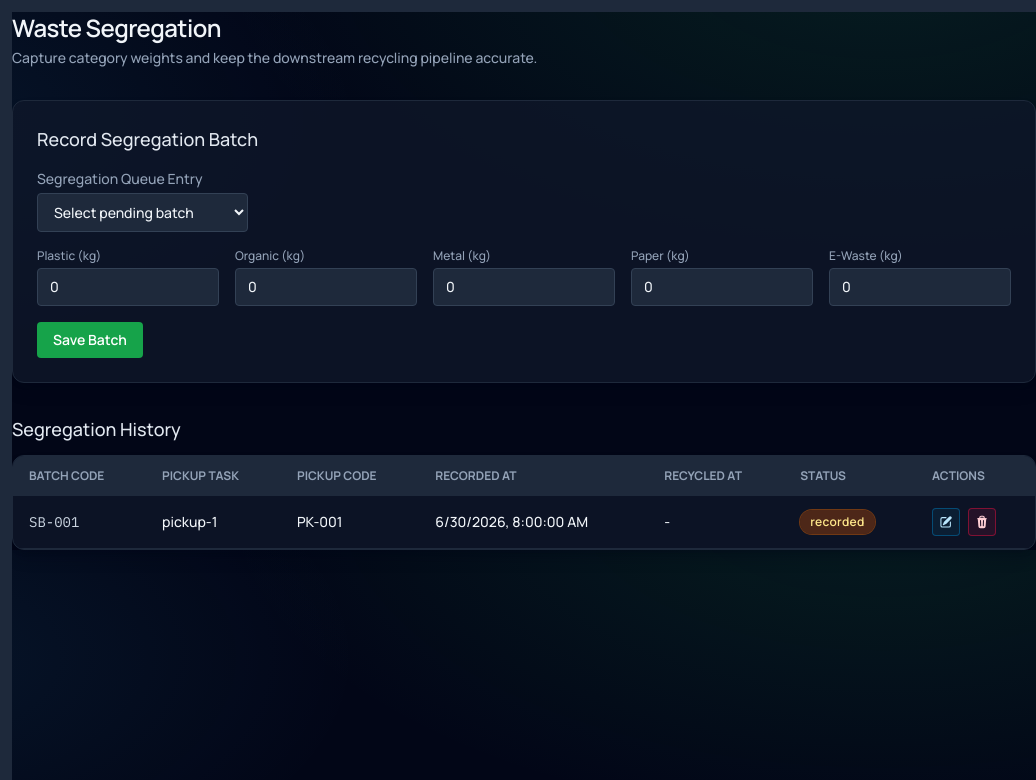
Test case: SegregationPage integration › clears stale success text when a later submit fails
Select "SB-001 | PK-001 | pending" in the dropdown labelled "Segregation Queue Entry" at (142, 212), box [37,193,248,232]
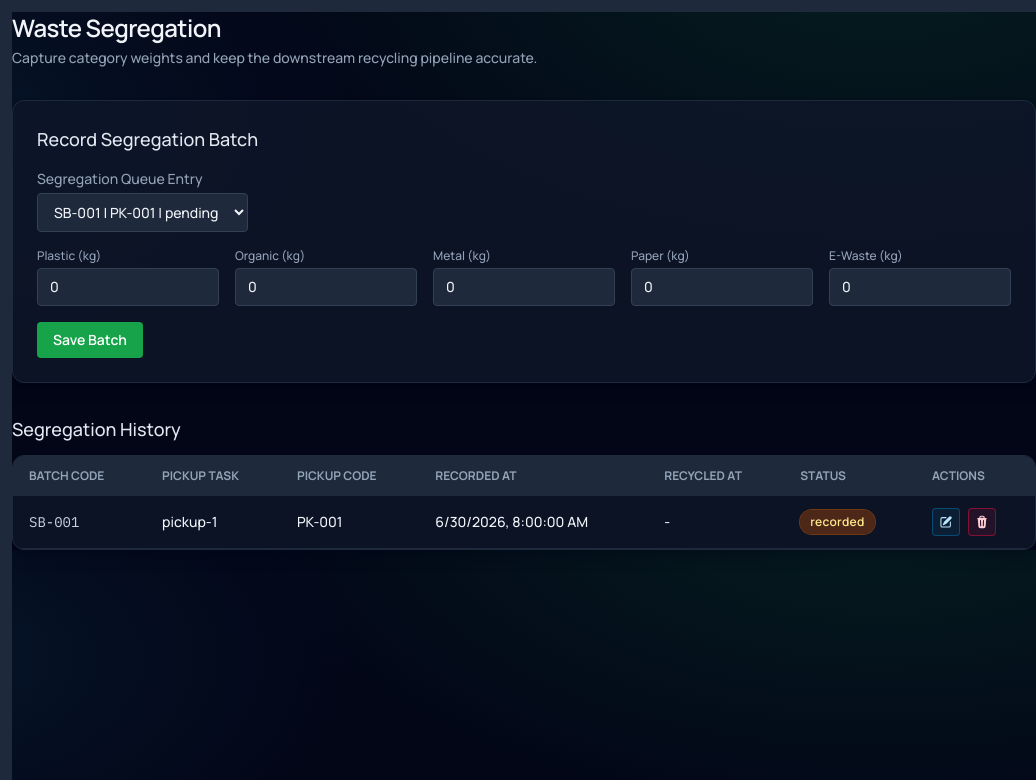
Replace the text in the number field labelled "Plastic (kg)" with "10" at (128, 287), box [37,268,219,306]
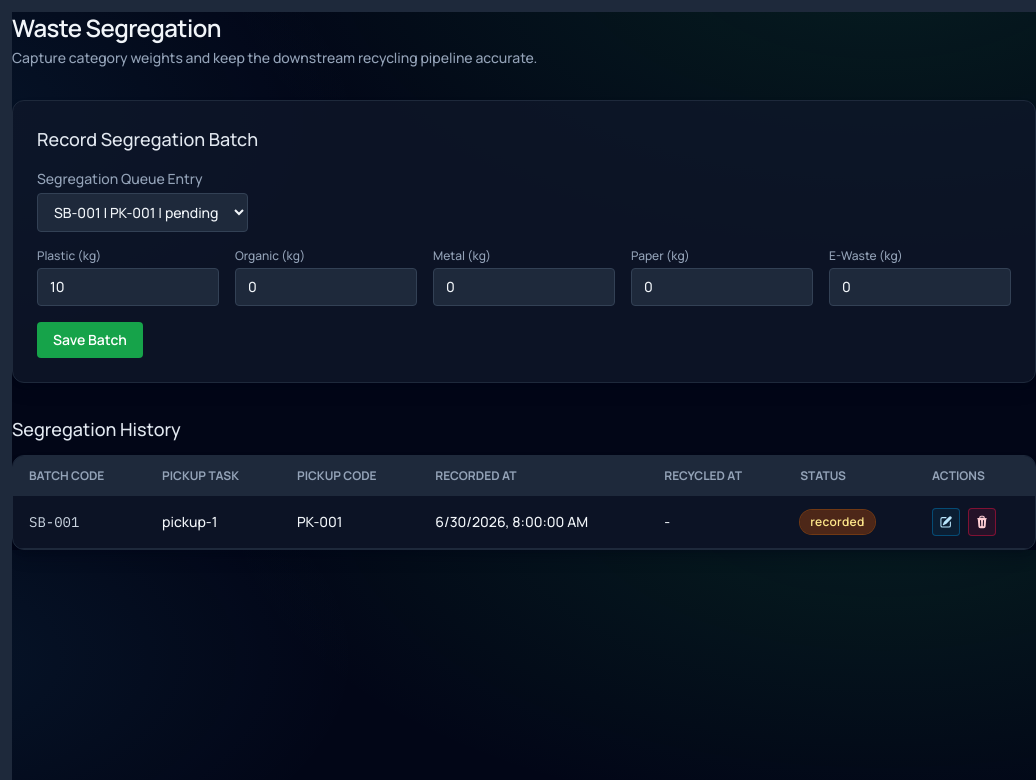
Click the button "Save Batch".
click(90, 340)  # box [37,322,143,358]
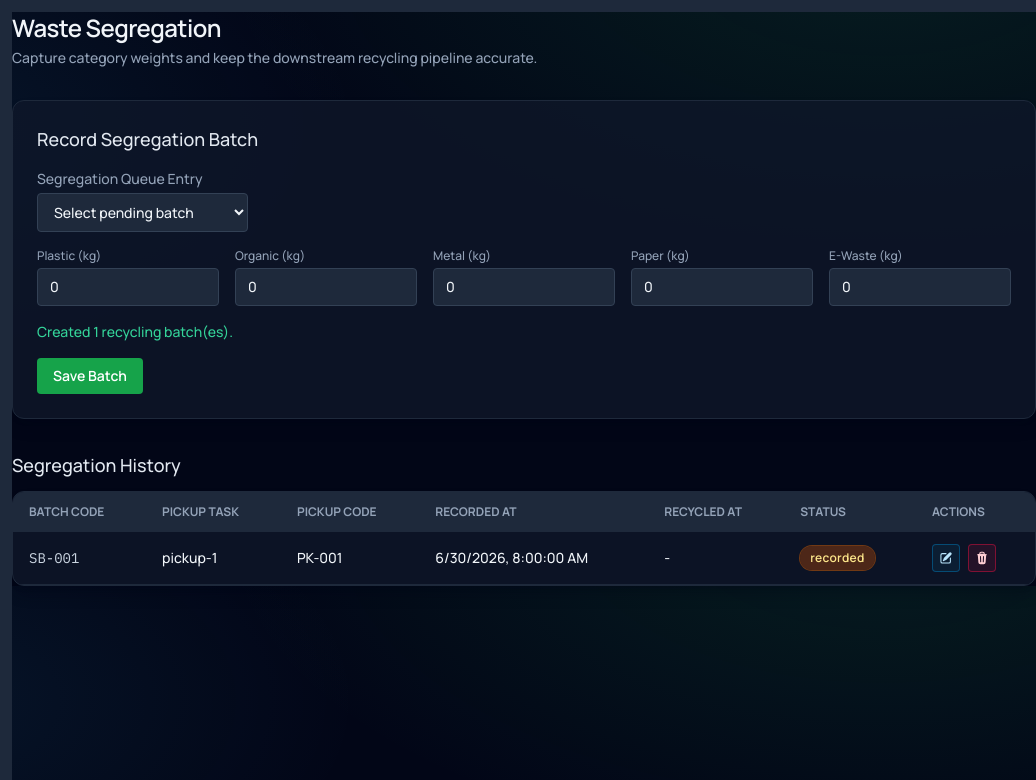
expect the message reads "Created 1 recycling batch(es).": met, box [37,322,233,341]
Select "SB-001 | PK-001 | pending" in the dropdown labelled "Segregation Queue Entry" at (142, 212), box [37,193,248,232]
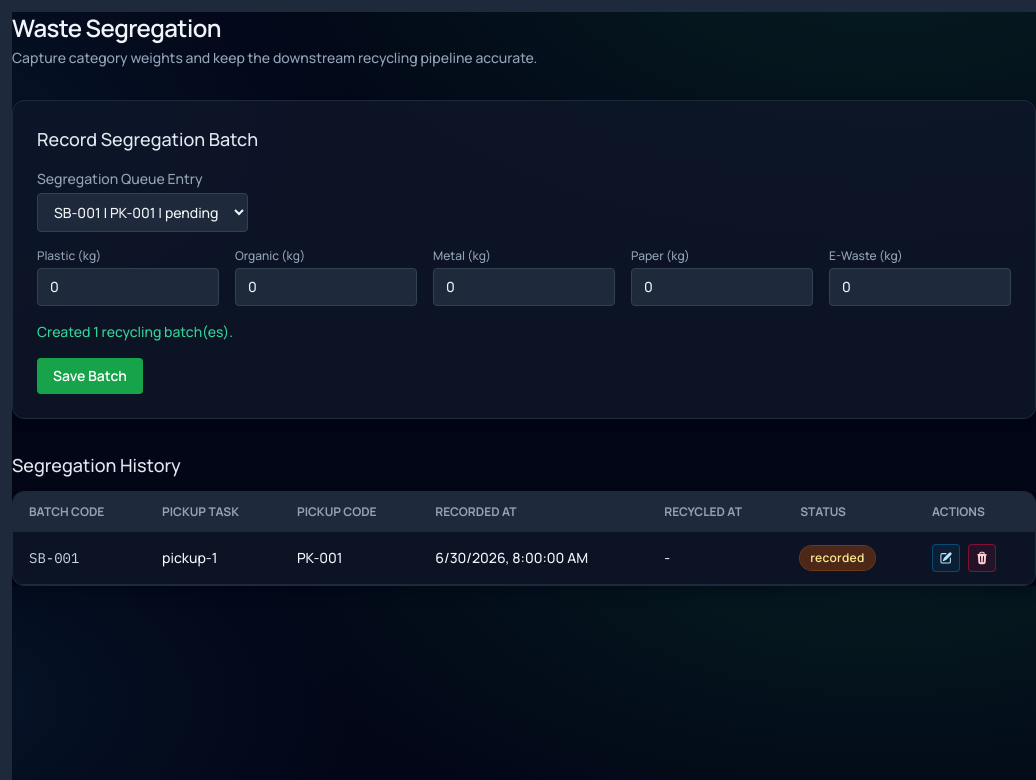
Replace the text in the number field labelled "Plastic (kg)" with "12" at (128, 287), box [37,268,219,306]
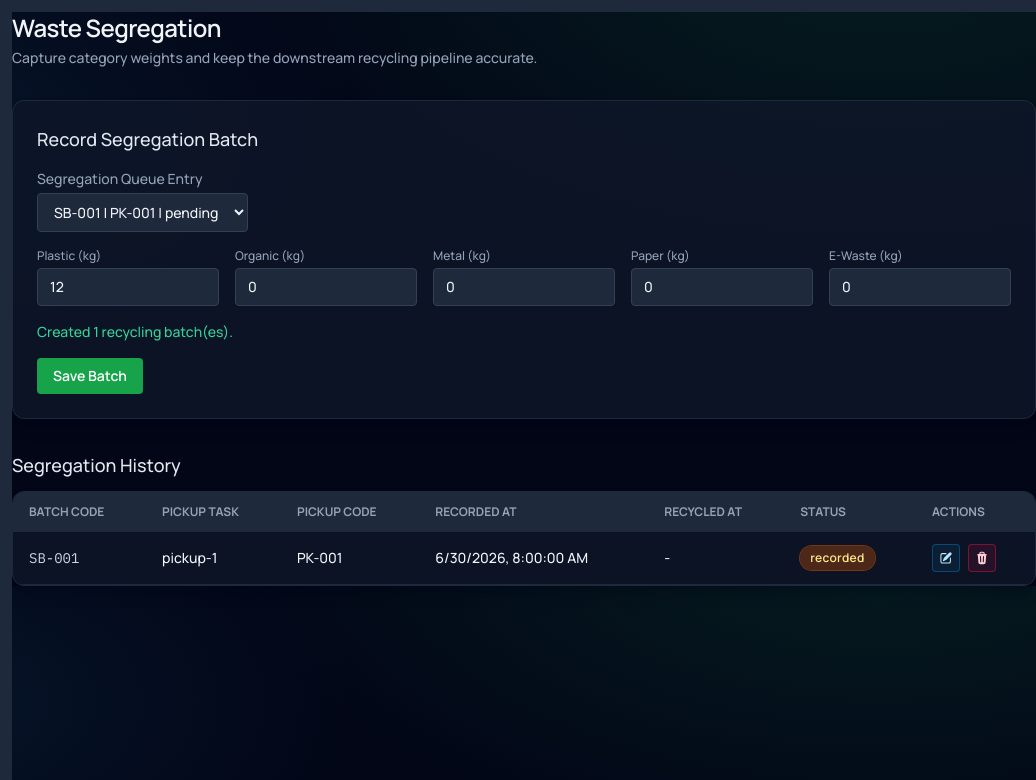
Click the button "Save Batch".
click(90, 376)  # box [37,358,143,394]
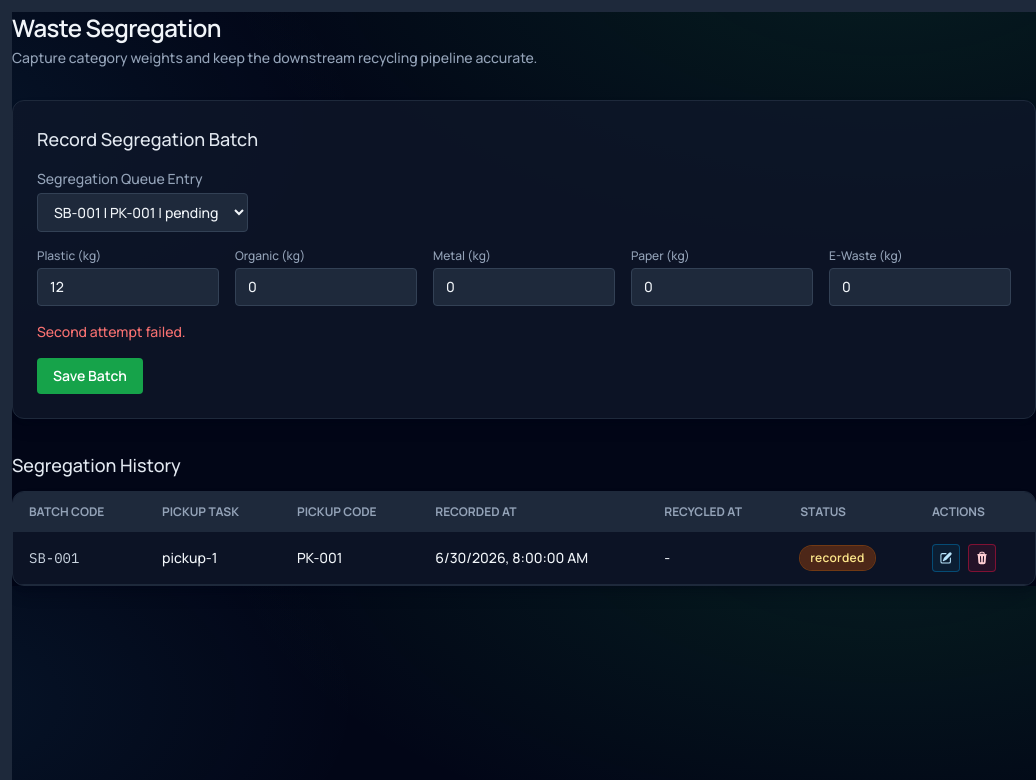
expect the message reads "Second attempt failed.": met, box [37,322,186,341]
